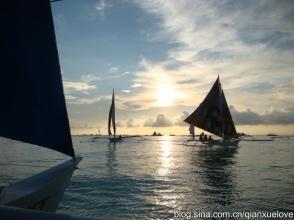fanchuan: (1, 1, 80, 207), (176, 73, 255, 148), (104, 89, 133, 144)
